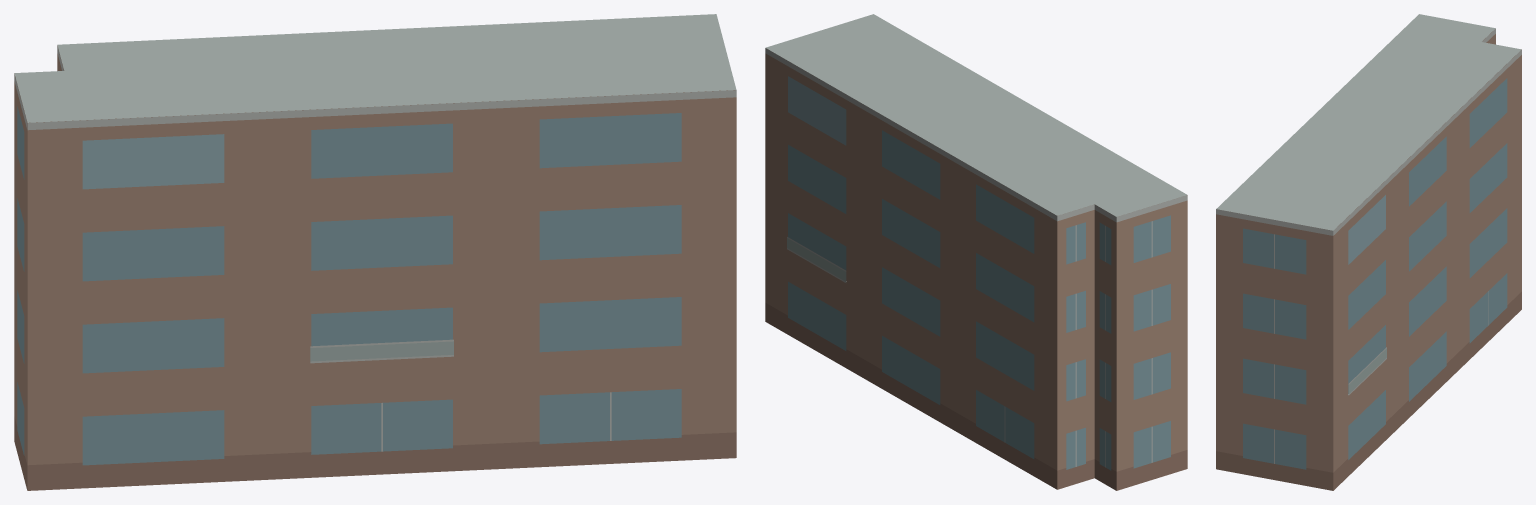
The model's file is residential-5b8f42e9-b494-498b-8a30-faee9f846013.glb.
3 renders of one model, left to right at view 1: azimuth 30°, elevation 25°; view 2: azimuth 150°, elevation 25°; view 3: azimuth 270°, elevation 25°, orthographic. The views are drawn at different scales.
Parts seen in each view (by area): view 1: residential-5b8f42e9-b494-498b-8a30-faee9f846013.tmp; view 2: residential-5b8f42e9-b494-498b-8a30-faee9f846013.tmp; view 3: residential-5b8f42e9-b494-498b-8a30-faee9f846013.tmp.
Boxes of the visible parts, x1=… form: residential-5b8f42e9-b494-498b-8a30-faee9f846013.tmp: x1=14, y1=14, x2=736, y2=490; residential-5b8f42e9-b494-498b-8a30-faee9f846013.tmp: x1=765, y1=14, x2=1187, y2=490; residential-5b8f42e9-b494-498b-8a30-faee9f846013.tmp: x1=1216, y1=14, x2=1521, y2=490.
Size of the model in its own units: 21.81 by 12.2 by 13.
